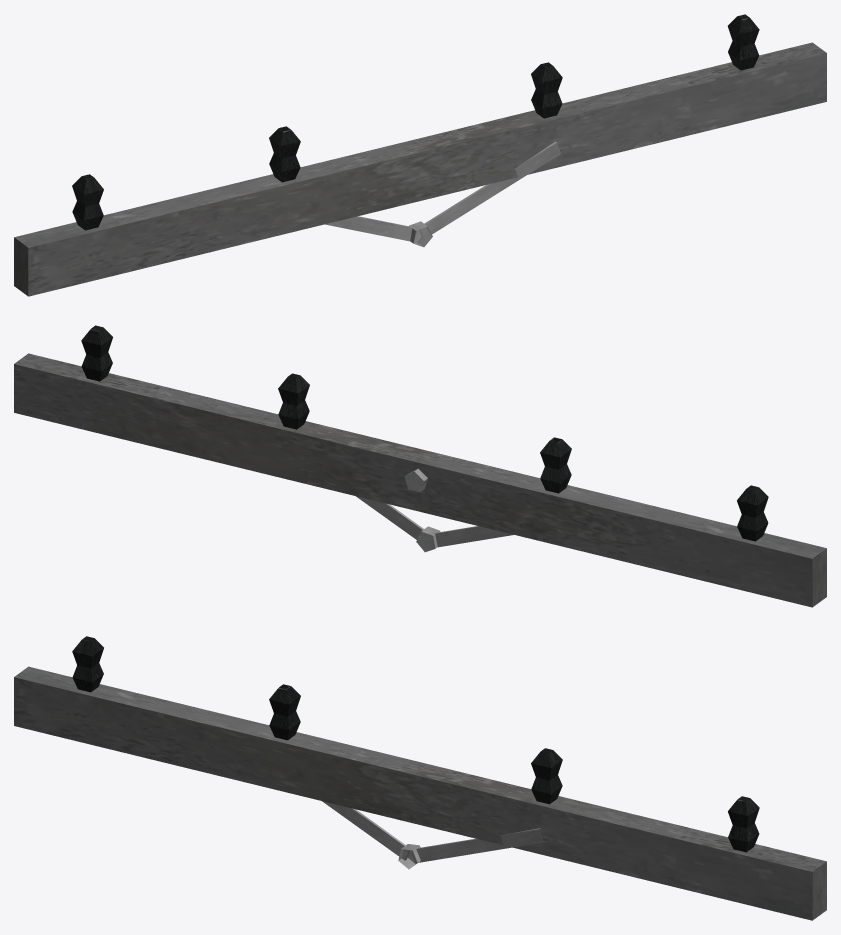
The model's file is pole_09.glb.
3 views of the same model, one above another, from view 1: azimuth 30°, elevation 25°; view 2: azimuth 150°, elevation 25°; view 3: azimuth 330°, elevation 25° (orthographic).
Visible parts, largest first — view 1: geometry_0; view 2: geometry_0; view 3: geometry_0.
Part boxes in pixels (box(x1,y1,x2,y2)): geometry_0: box(14, 14, 826, 296); geometry_0: box(14, 325, 826, 607); geometry_0: box(14, 636, 826, 920).
Bounding box in the file's own units: 0.2124 × 0.0368 × 0.00922.
Materials: 1 (1 with a texture image).
